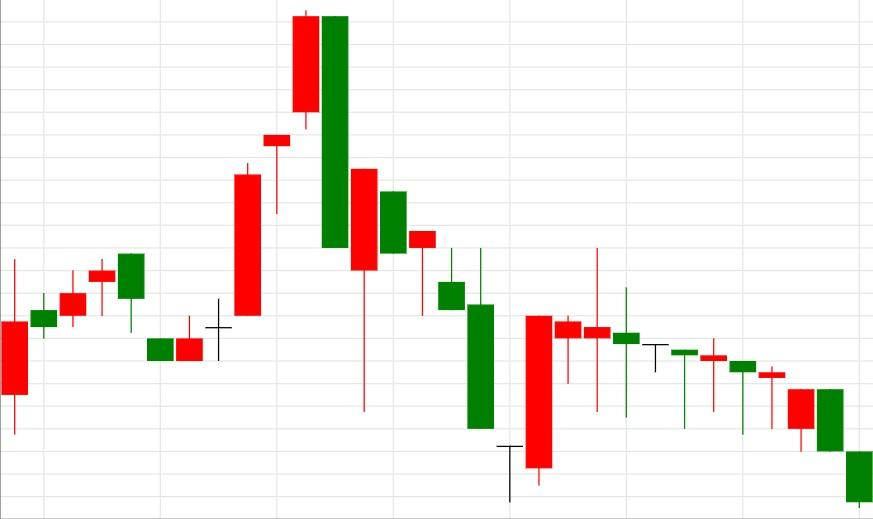bearish_engulfing_fall: (146, 10, 349, 361)
